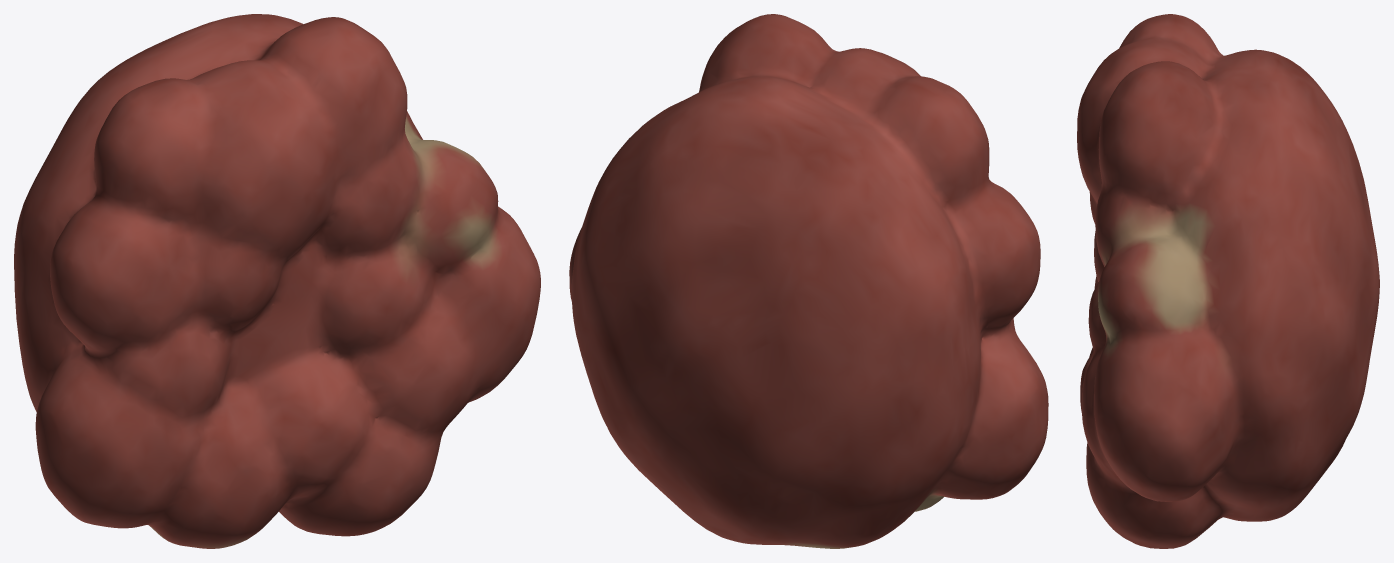
Rendered from obstructing.glb.
3 views of the same model, side by side, from view 1: azimuth 30°, elevation 25°; view 2: azimuth 150°, elevation 25°; view 3: azimuth 270°, elevation 25° (orthographic). The views are drawn at different scales.
Parts seen in each view (by area): view 1: obstructing; view 2: obstructing; view 3: obstructing.
Boxes of the visible parts, <box> form: obstructing: <box>14,14,540,548</box>; obstructing: <box>569,14,1048,548</box>; obstructing: <box>1077,14,1379,548</box>.
Size of the model in its own units: 2 by 2 by 1.18.
